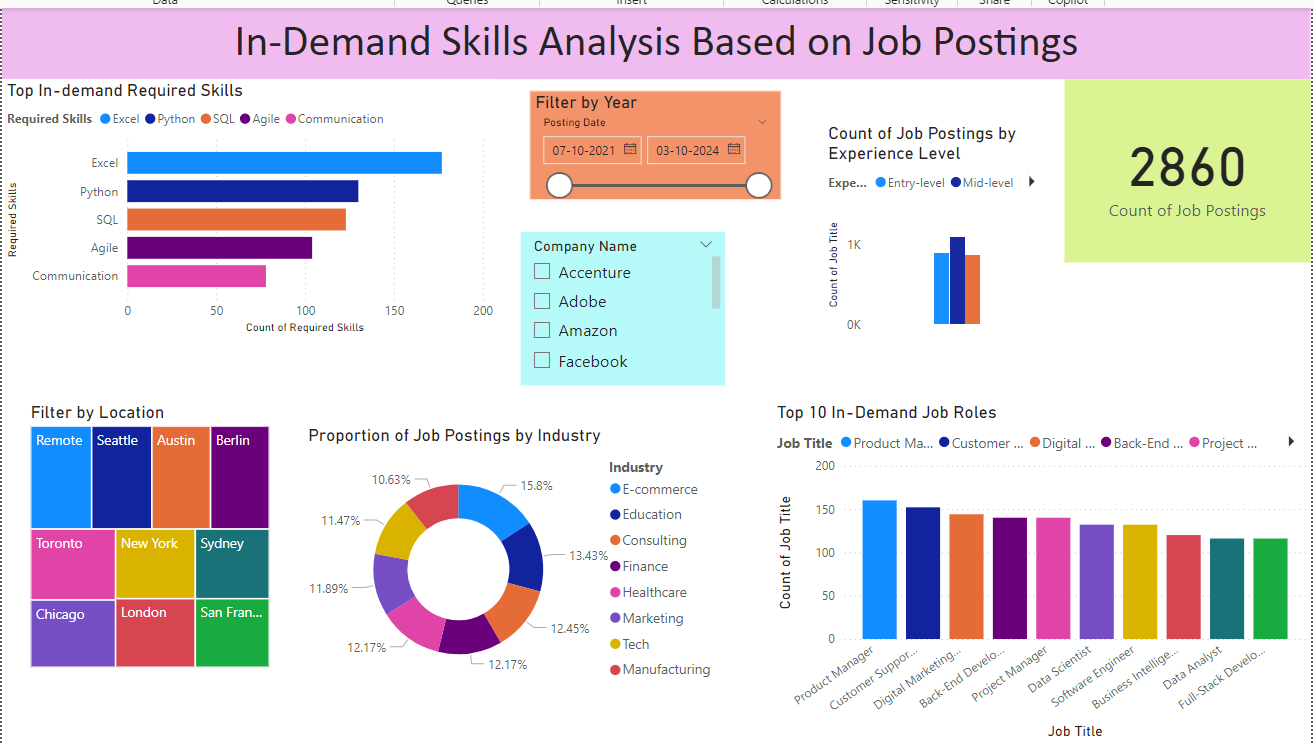

Layout of this report page (visuals, bound fields, positions):
{"tool":"powerbi","page":{"name":"Page 1","canvas":[1280,720],"ordinal":0},"visuals":[{"type":"textbox","box":[0,0,1280.3,70],"z":0},{"type":"barChart","title":"Top In-demand Required Skills","fields":{"Category":["job_postings_with_separated_skills.Required Skills"],"Y":["CountNonNull(job_postings_with_separated_skills.Required Skills)"],"Series":["job_postings_with_separated_skills.Required Skills"]},"box":[0,69.9,485.5,254.2],"z":1000},{"type":"card","fields":{"Values":["CountNonNull(job_postings_with_separated_skills.Job Title)"]},"box":[1039.5,69.9,240.7,178.9],"z":2000},{"type":"columnChart","title":"Top 10 In-Demand Job Roles","fields":{"Category":["job_postings_with_separated_skills.Job Title"],"Series":["job_postings_with_separated_skills.Job Title"],"Y":["CountNonNull(job_postings_with_separated_skills.Job Title)"]},"box":[753.1,384.6,527.2,334.9],"z":2001},{"type":"treemap","title":"Filter by Location","fields":{"Group":["job_postings_with_separated_skills.Location"],"Values":["CountNonNull(job_postings_with_separated_skills.Location)"]},"box":[22.9,384.6,243.4,264.9],"z":2002},{"type":"donutChart","title":"Proportion of Job Postings by Industry","fields":{"Category":["job_postings_with_separated_skills.Industry"],"Y":["CountNonNull(job_postings_with_separated_skills.Industry)"]},"box":[294.5,407.5,412.9,264.9],"z":2003},{"type":"slicer","title":"Filter by Year","fields":{"Values":["job_postings_with_separated_skills.Posting Date"]},"box":[516.4,80.7,246.1,107.6],"z":2004},{"type":"slicer","fields":{"Values":["job_postings_with_separated_skills.Company Name"]},"box":[507,219.2,200.4,150.6],"z":2005},{"type":"clusteredColumnChart","title":"Count of Job Postings by Experience Level","fields":{"Series":["job_postings_with_separated_skills.Experience Level"],"Y":["CountNonNull(job_postings_with_separated_skills.Job Title)"]},"box":[802.9,113,220.6,211.1],"z":2006}]}

Visuals, with their boxes on the page's 1280x720 design canvas (x1, y1, x2, y2). These are canvas units, not pixel positions in the 1314x743 screenshot, which may show the page scaled, cropped or inside an application window:
textbox: <bbox>0, 0, 1280, 70</bbox>
"Top In-demand Required Skills" barChart: <bbox>0, 70, 486, 324</bbox>
card - CountNonNull(job_postings_with_separated_skills.Job Title): <bbox>1040, 70, 1280, 249</bbox>
"Top 10 In-Demand Job Roles" columnChart: <bbox>753, 385, 1280, 720</bbox>
"Filter by Location" treemap: <bbox>23, 385, 266, 650</bbox>
"Proportion of Job Postings by Industry" donutChart: <bbox>294, 408, 707, 672</bbox>
"Filter by Year" slicer: <bbox>516, 81, 762, 188</bbox>
slicer - job_postings_with_separated_skills.Company Name: <bbox>507, 219, 707, 370</bbox>
"Count of Job Postings by Experience Level" clusteredColumnChart: <bbox>803, 113, 1024, 324</bbox>
